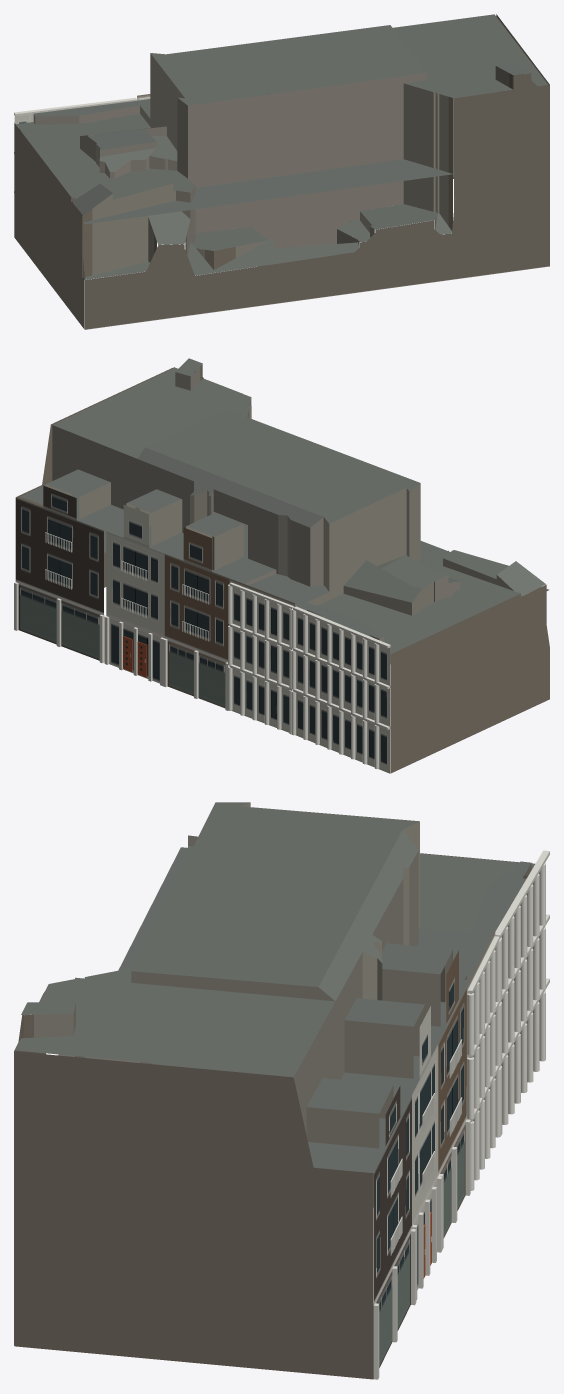
The picture shows the model from 3 angles, top to bottom: view 1: azimuth 30°, elevation 25°; view 2: azimuth 150°, elevation 25°; view 3: azimuth 270°, elevation 25°; orthographic projection. The views are drawn at different scales.
Visible parts, largest first — view 1: 0363100012175018; view 2: 0363100012175018; view 3: 0363100012175018.
Part boxes in pixels (left/top/right/bottom): 0363100012175018: left=14, top=14, right=549, bottom=329; 0363100012175018: left=14, top=358, right=549, bottom=773; 0363100012175018: left=14, top=802, right=549, bottom=1379.
Size of the model in its own units: 40.04 by 16.43 by 25.08.
3 materials, 1 textured.
